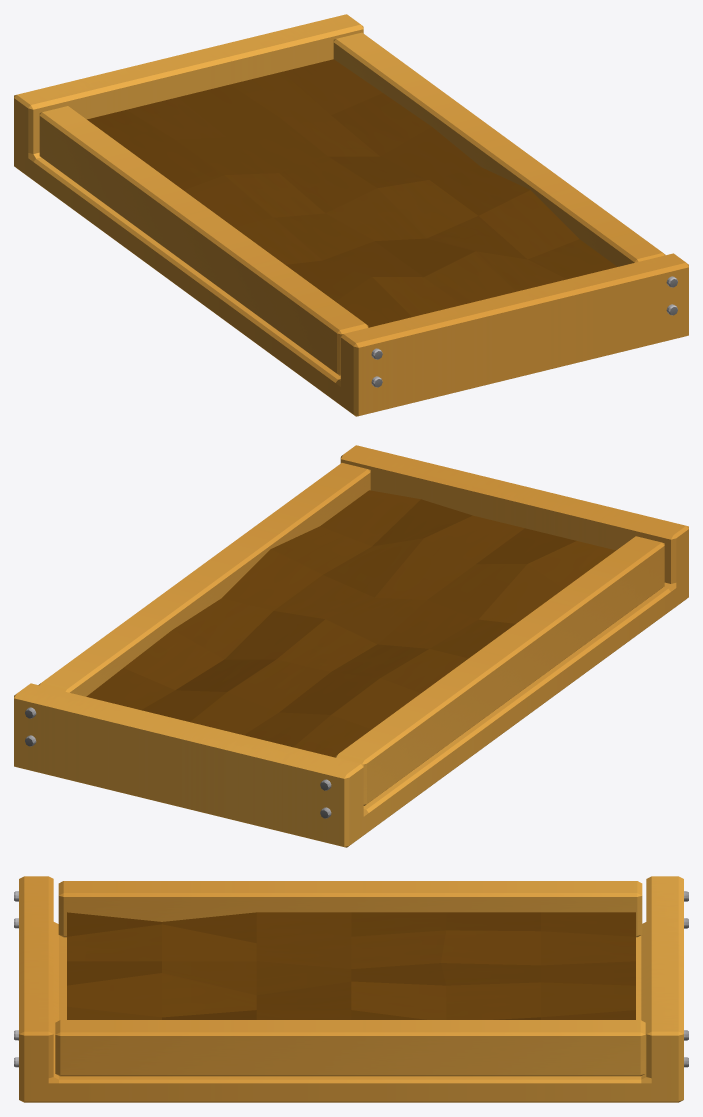
The model's file is CaixaDePlantaçao.fbx.
The picture shows the model from 3 angles, top to bottom: view 1: azimuth 30°, elevation 25°; view 2: azimuth 150°, elevation 25°; view 3: azimuth 270°, elevation 25°; orthographic projection. The views are drawn at different scales.
Parts seen in each view (by area): view 1: Plane, Plane.001; view 2: Plane, Plane.001; view 3: Plane, Plane.001.
Part boxes in pixels (box(x1,y1,x2,y2)): Plane: box(14, 14, 688, 416); Plane.001: box(87, 59, 616, 327); Plane: box(14, 445, 688, 847); Plane.001: box(86, 490, 615, 757); Plane: box(14, 876, 688, 1102); Plane.001: box(67, 912, 635, 1019).
Size of the model in its own units: 200 by 41.93 by 362.
3 materials, 3 textured.
